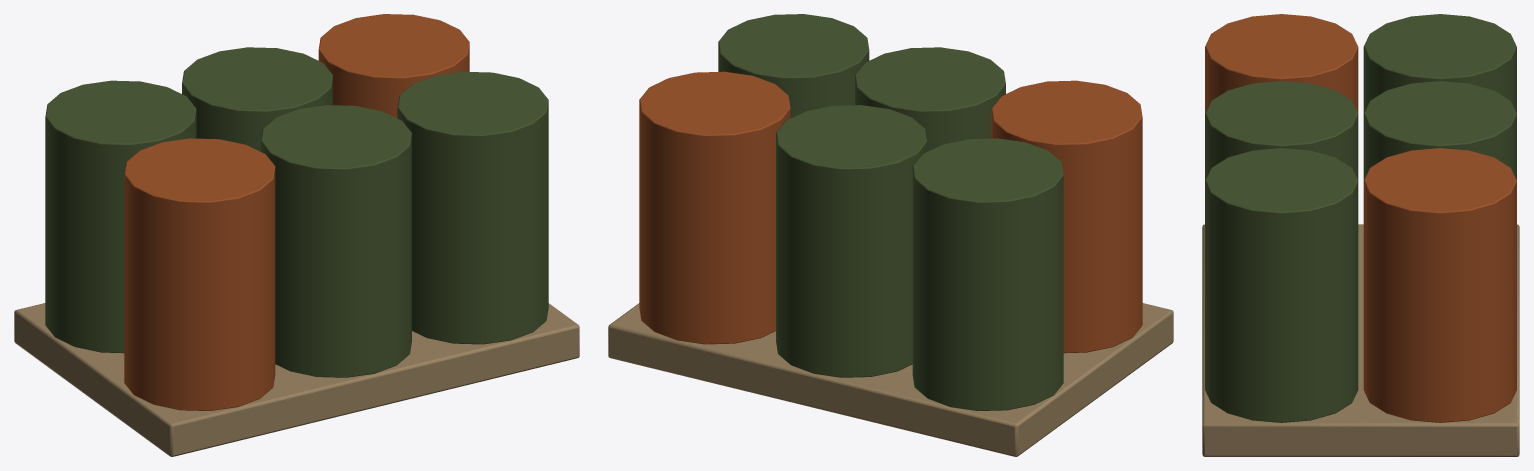
File: Prop_Drums.fbx
3 renders of one model, left to right at view 1: azimuth 30°, elevation 25°; view 2: azimuth 150°, elevation 25°; view 3: azimuth 270°, elevation 25°, orthographic.
Visible parts, largest first — view 1: Prop_Drums_Mesh; view 2: Prop_Drums_Mesh; view 3: Prop_Drums_Mesh.
Boxes of the visible parts, x1=… form: Prop_Drums_Mesh: x1=14, y1=14, x2=579, y2=456; Prop_Drums_Mesh: x1=608, y1=14, x2=1173, y2=456; Prop_Drums_Mesh: x1=1202, y1=14, x2=1519, y2=456.
Bounding box in the file's own units: 1.8 × 1.02 × 1.2.
